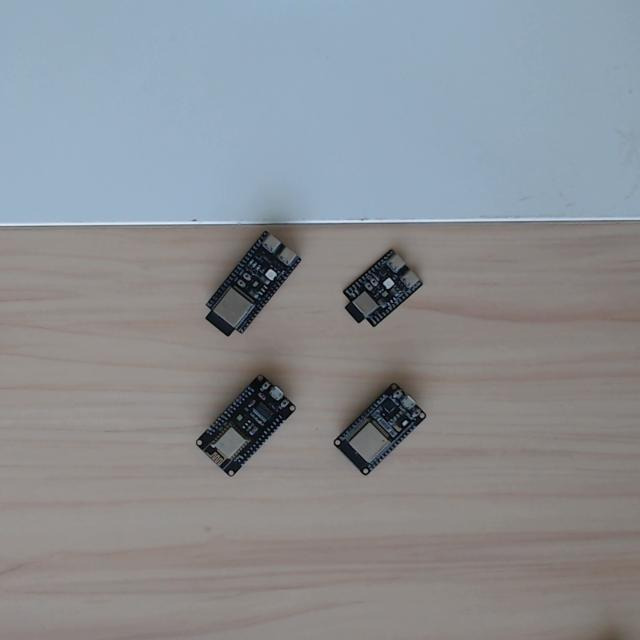ESP32-DevKit: (329, 380, 431, 482)
ESP32C3-DevKit: (333, 246, 427, 337)
ESP32S3-Devkit: (196, 229, 305, 345)
ESP8266-NodeMCU: (191, 371, 299, 482)
